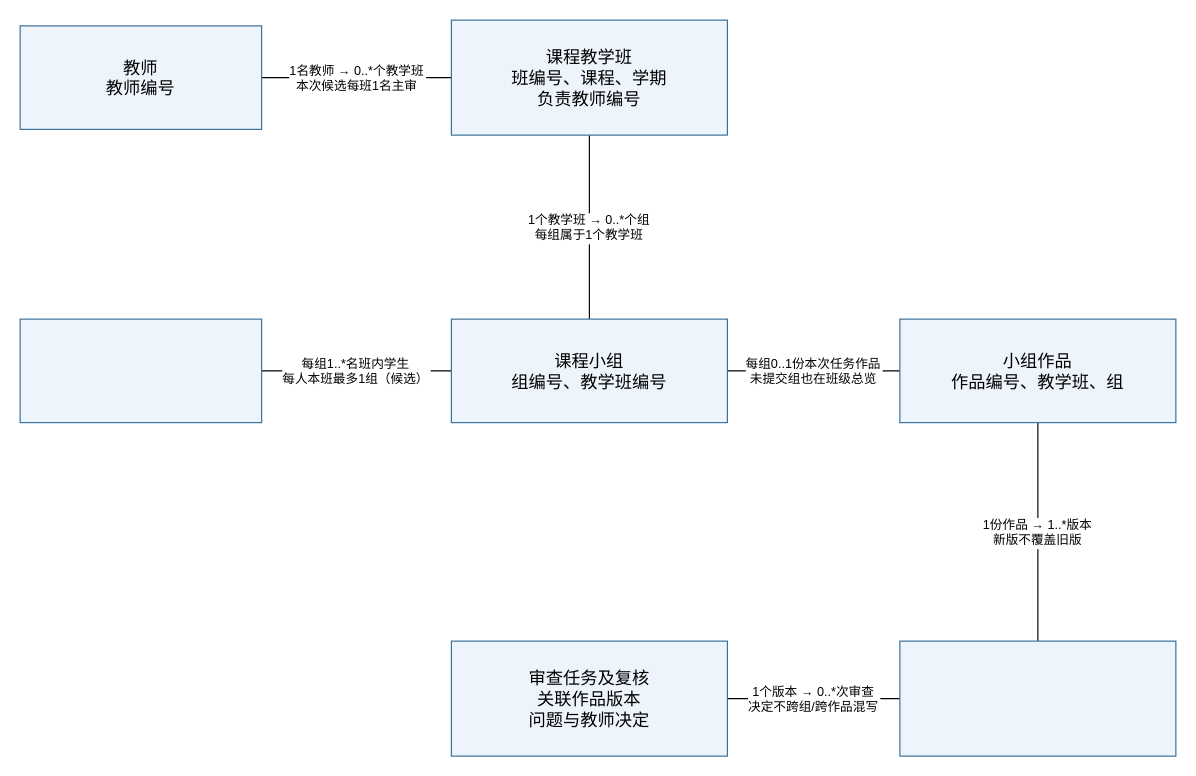
Image size: 1196x776. Some labels were removed from this diagram. Each missing label, with the centre of its shape:
"文档版本 作品编号、版本编号 原文与提交记录" goes at point (1037, 698).
"班内学生 学生编号、组归属" goes at point (140, 370).
